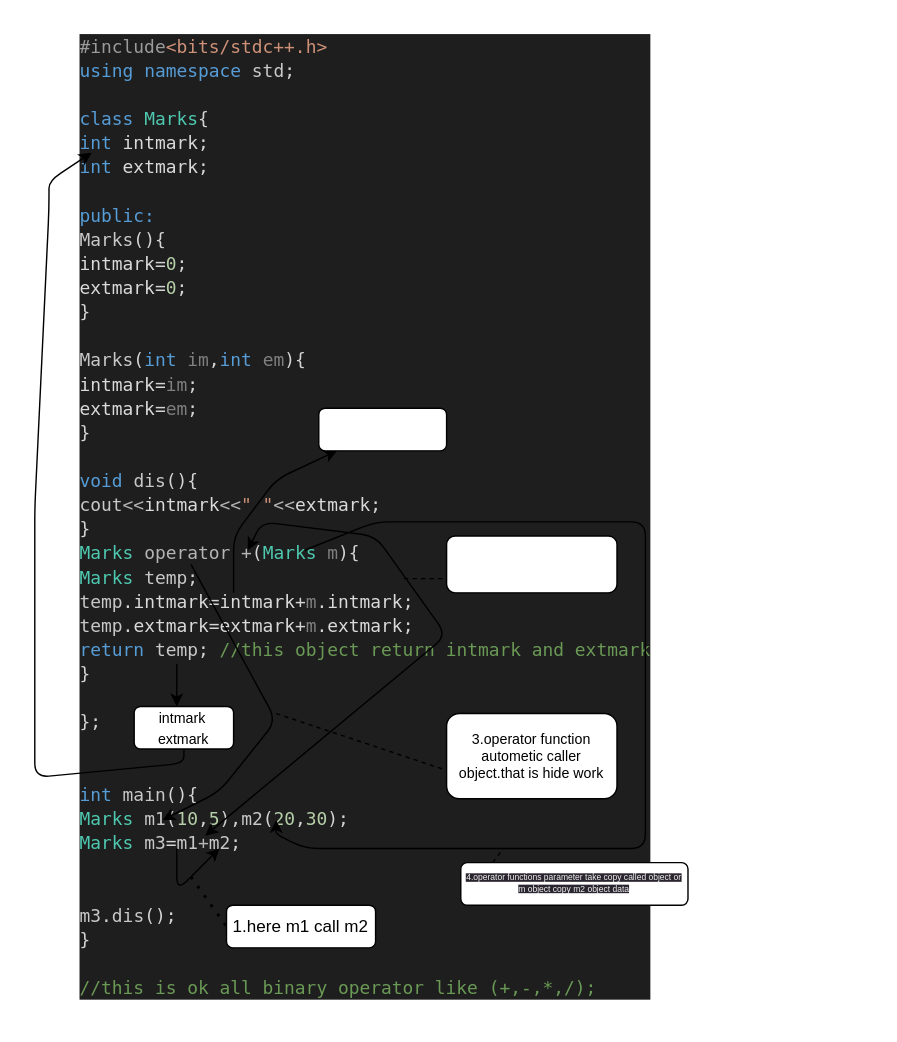
The diagram is 897 pixels wide and 1042 high, and some of its shapes have lost their labels. Each missing label, with the centre of its shape:
"2.(+) operator call operator function" belongs at (531,564).
"intmark is this mark" belongs at (382,429).
